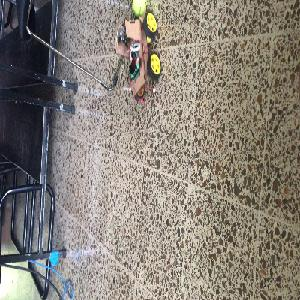Ball: (132, 0, 147, 12)
Robot: (116, 14, 161, 100)
